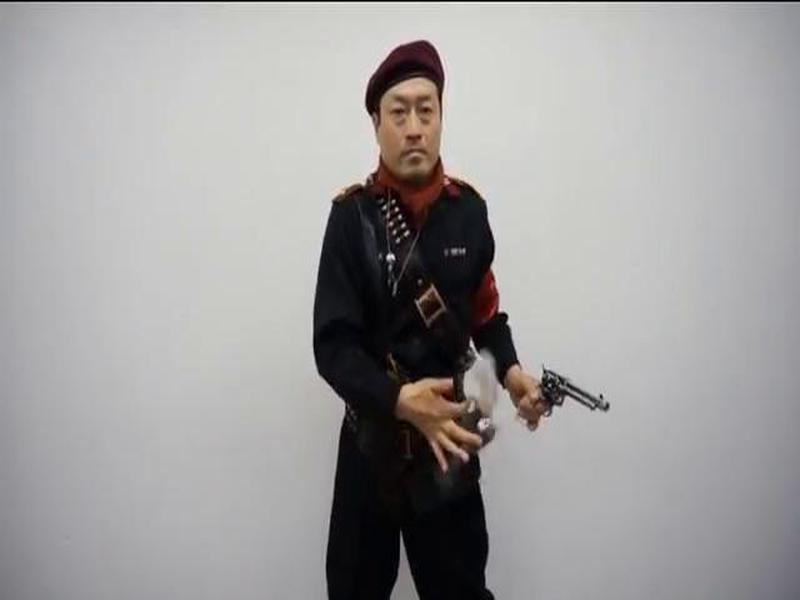Revolver: (522, 359, 614, 451)
